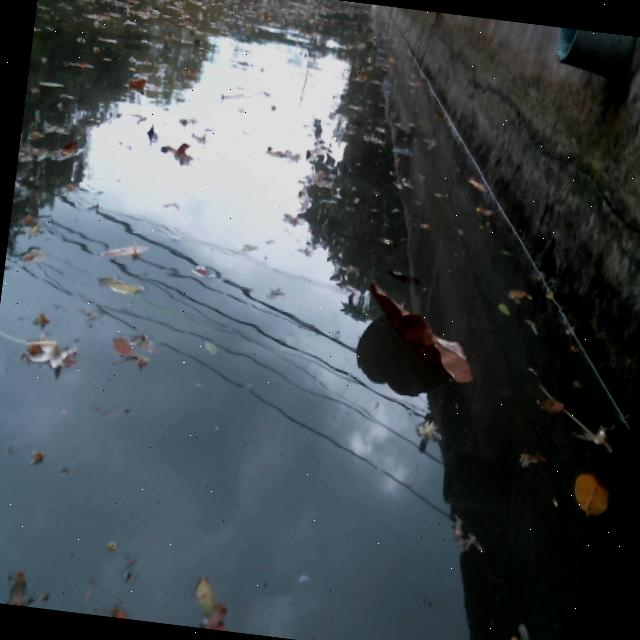Big-leaf: (351, 275, 488, 395)
Small-leaf: (569, 454, 618, 522), (20, 331, 84, 374), (95, 234, 155, 268), (188, 568, 222, 621), (97, 270, 152, 301), (194, 333, 235, 367), (0, 568, 35, 607), (380, 258, 425, 288), (42, 132, 84, 162), (258, 138, 303, 166), (15, 207, 48, 243), (104, 331, 143, 361), (161, 134, 196, 165), (532, 388, 568, 418), (11, 242, 49, 270), (132, 324, 164, 356), (463, 167, 496, 198), (500, 278, 535, 307), (499, 622, 551, 640), (514, 447, 548, 474), (189, 257, 220, 284), (102, 600, 142, 620), (470, 200, 498, 222), (491, 296, 514, 322), (141, 118, 160, 144)
